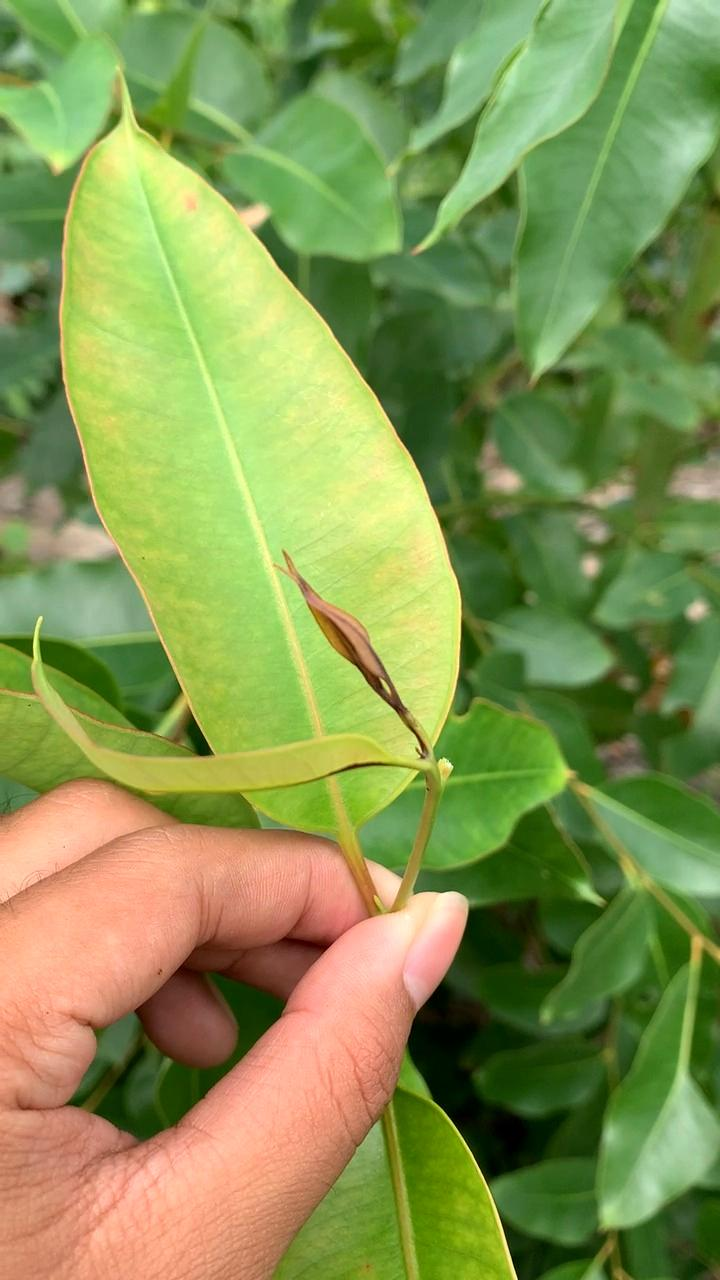Helopeltis-Withered Sprout: (266, 538, 439, 767)
